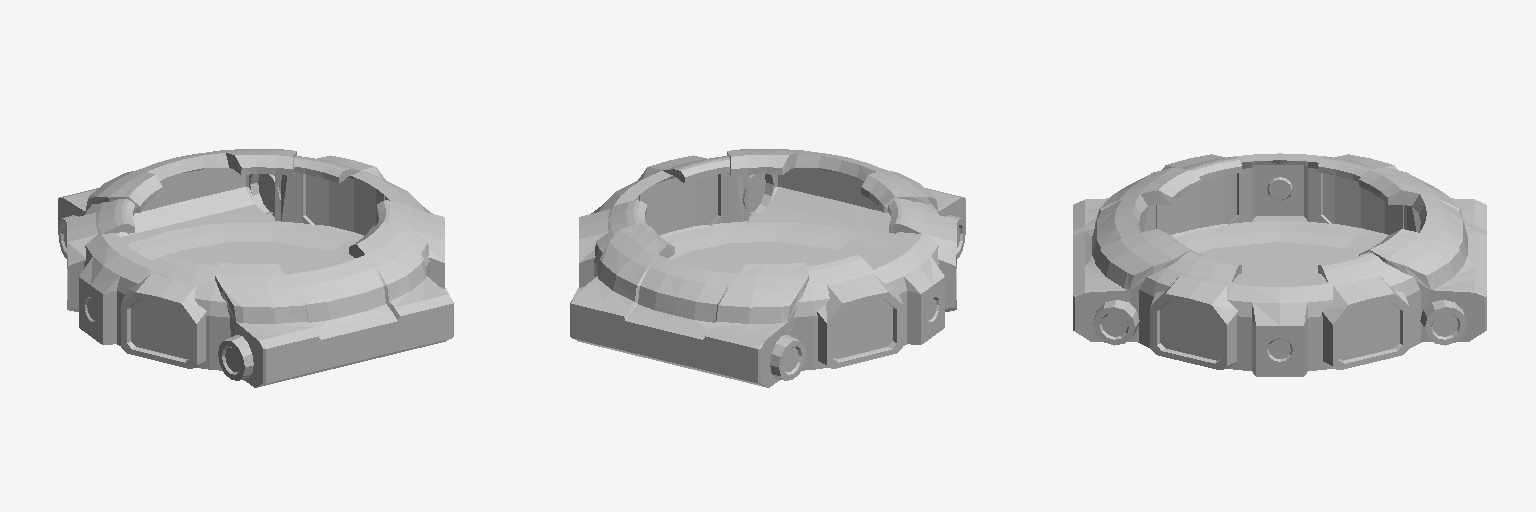
Rendered from Case.obj.
3 renders of one model, left to right at view 1: azimuth 30°, elevation 25°; view 2: azimuth 150°, elevation 25°; view 3: azimuth 270°, elevation 25°, orthographic.
Visible parts, largest first — view 1: Case Case; view 2: Case Case; view 3: Case Case.
Boxes of the visible parts, x1=… form: Case Case: x1=58, y1=149, x2=453, y2=387; Case Case: x1=570, y1=149, x2=965, y2=387; Case Case: x1=1073, y1=153, x2=1486, y2=376.
Size of the model in its own units: 4.56 by 1.23 by 4.96.